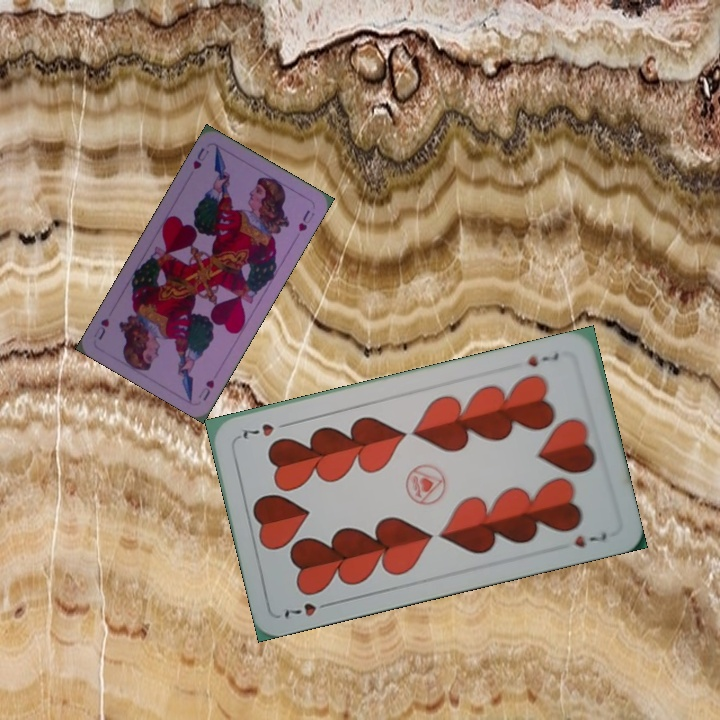H7: (280, 598, 336, 622), (524, 348, 562, 370)
HU: (189, 143, 212, 172), (194, 375, 217, 403)
